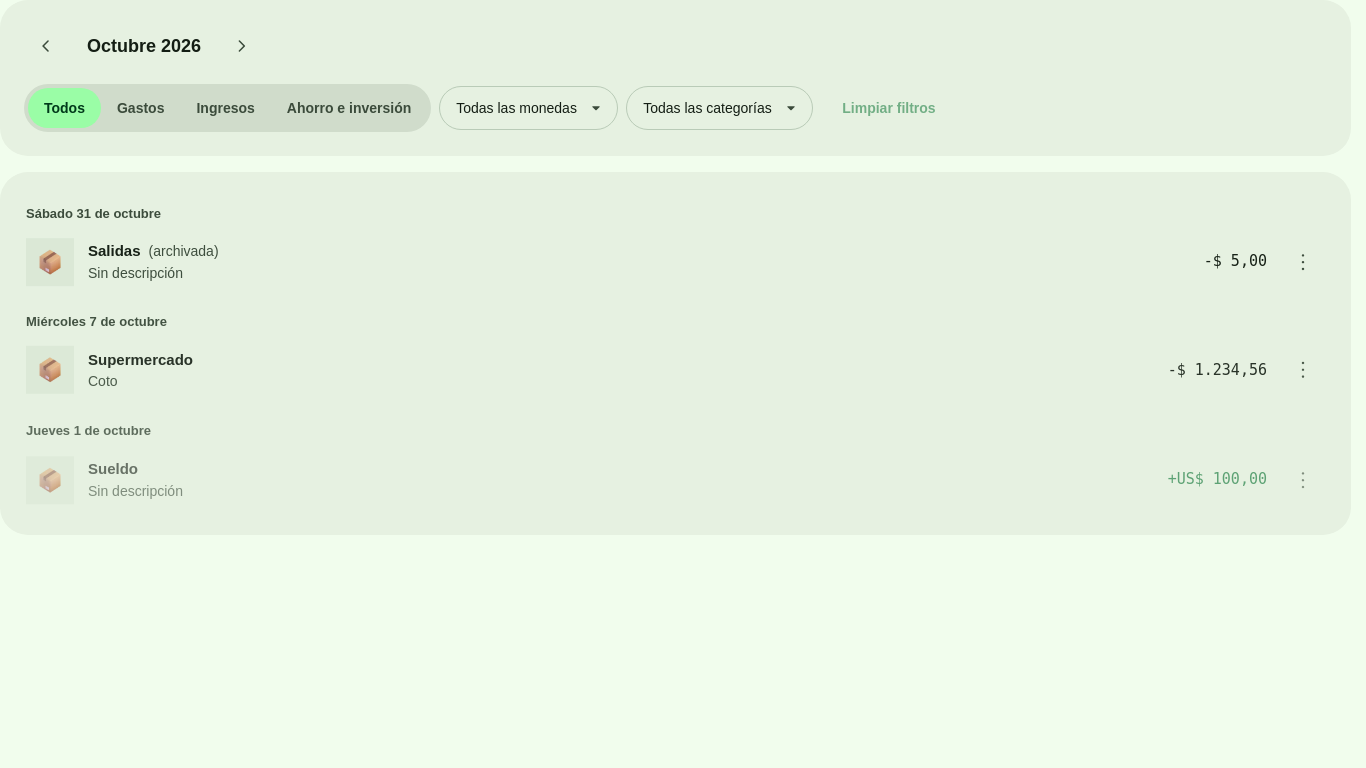
MovementsPage › edit › removes the movement from the month when its date moves to another month
Click the button named "Acciones del movimiento de Supermercado del 07/10/2026" at (1303, 370), box top-left (1281, 348), bottom-right (1325, 392)
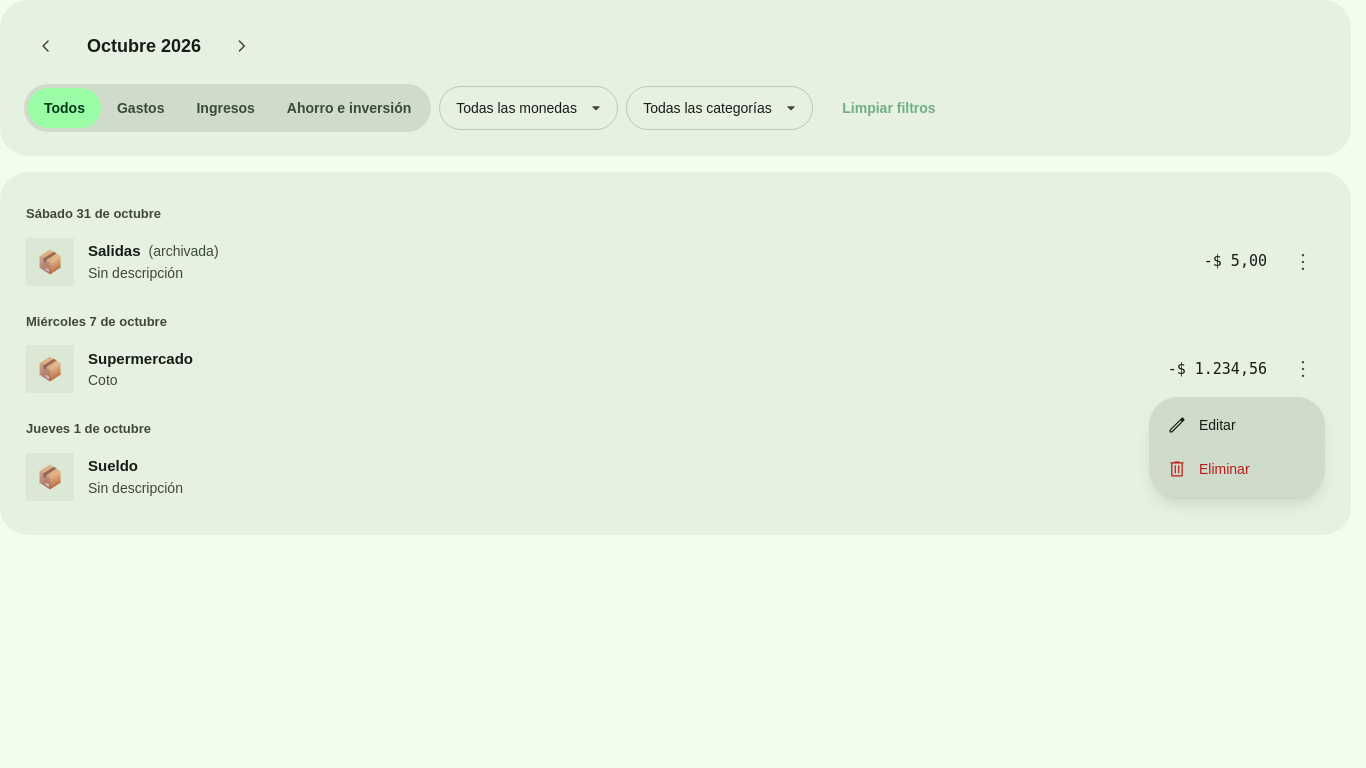
Click the menu item "Editar" at (1201, 425), box top-left (1167, 415), bottom-right (1236, 435)
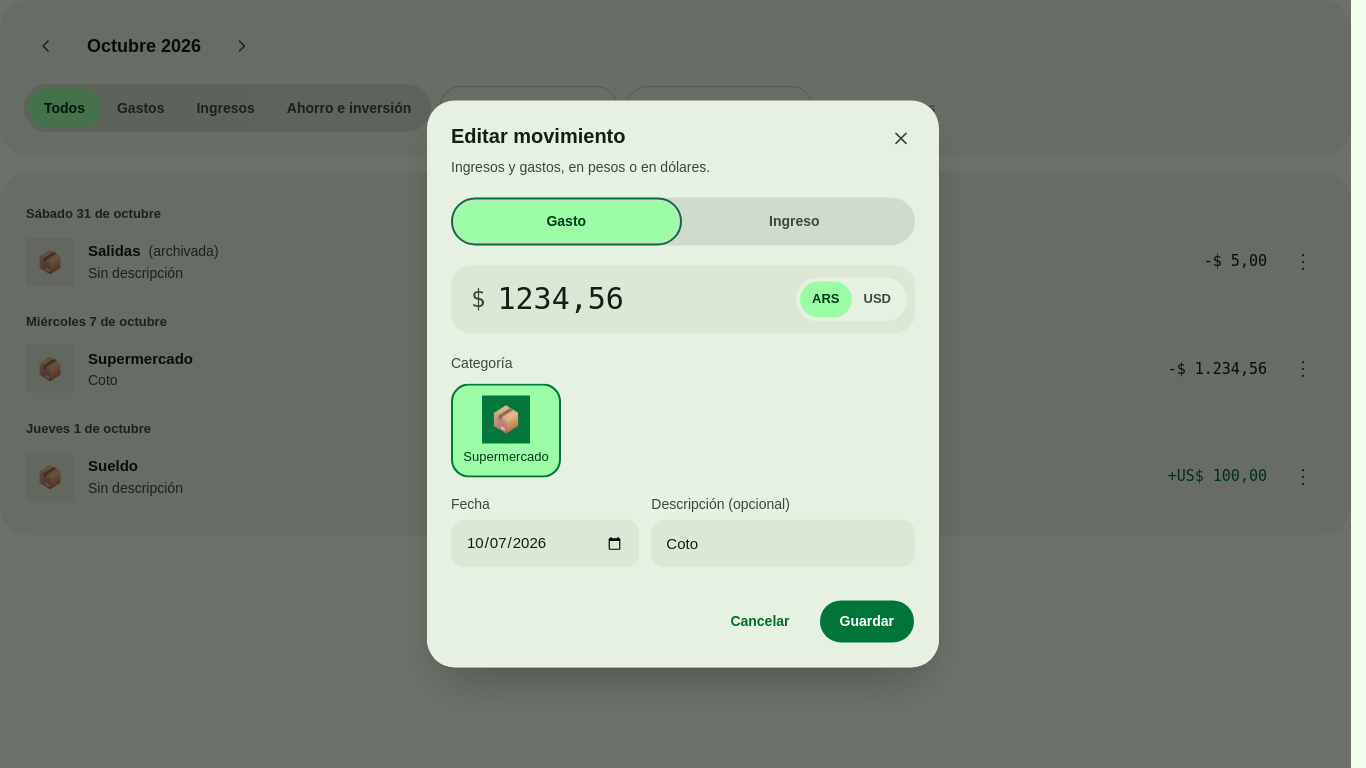
Check: the field named "Monto" is shown, box top-left (498, 273), bottom-right (784, 325)
Type "2026-11-02" into the date field labelled "Fecha" at (545, 544), box top-left (451, 520), bottom-right (639, 568)
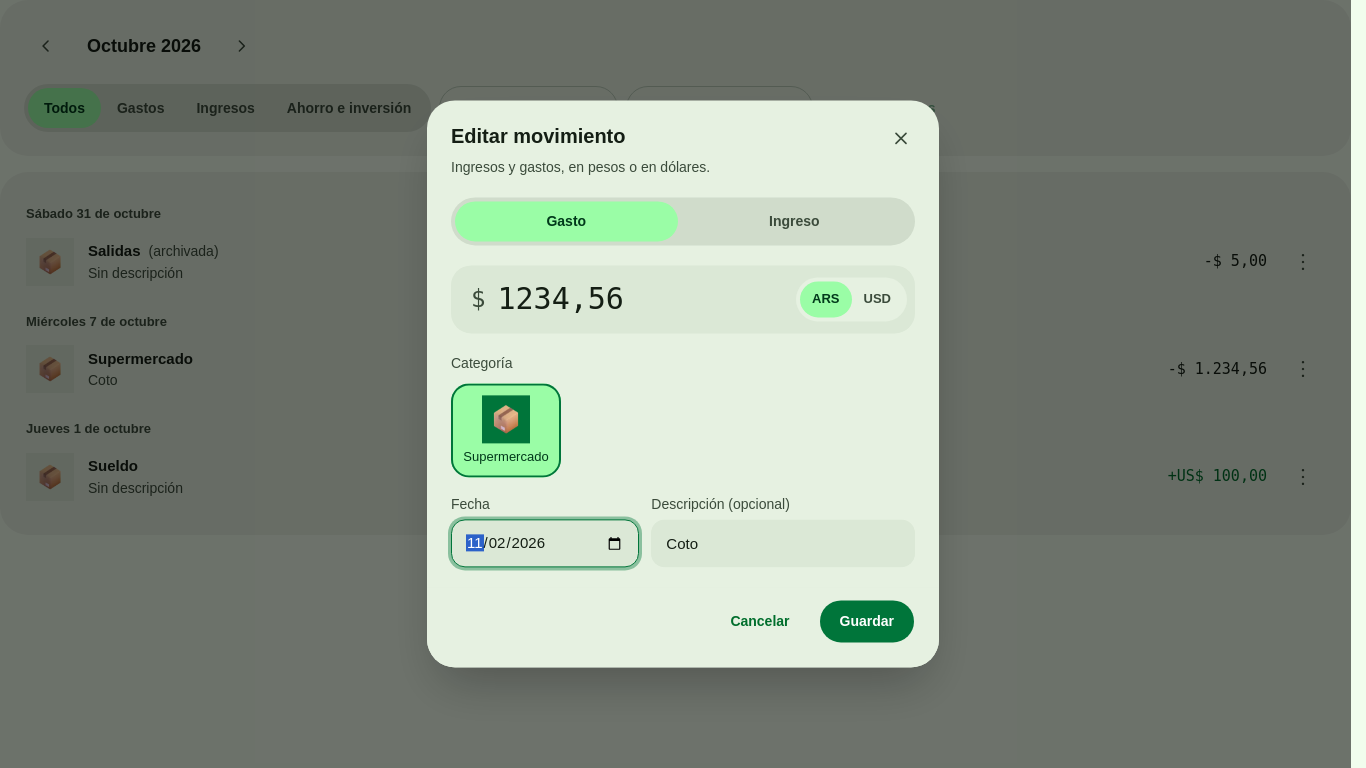
Click the button "Guardar" at (867, 622), box top-left (818, 600), bottom-right (915, 644)
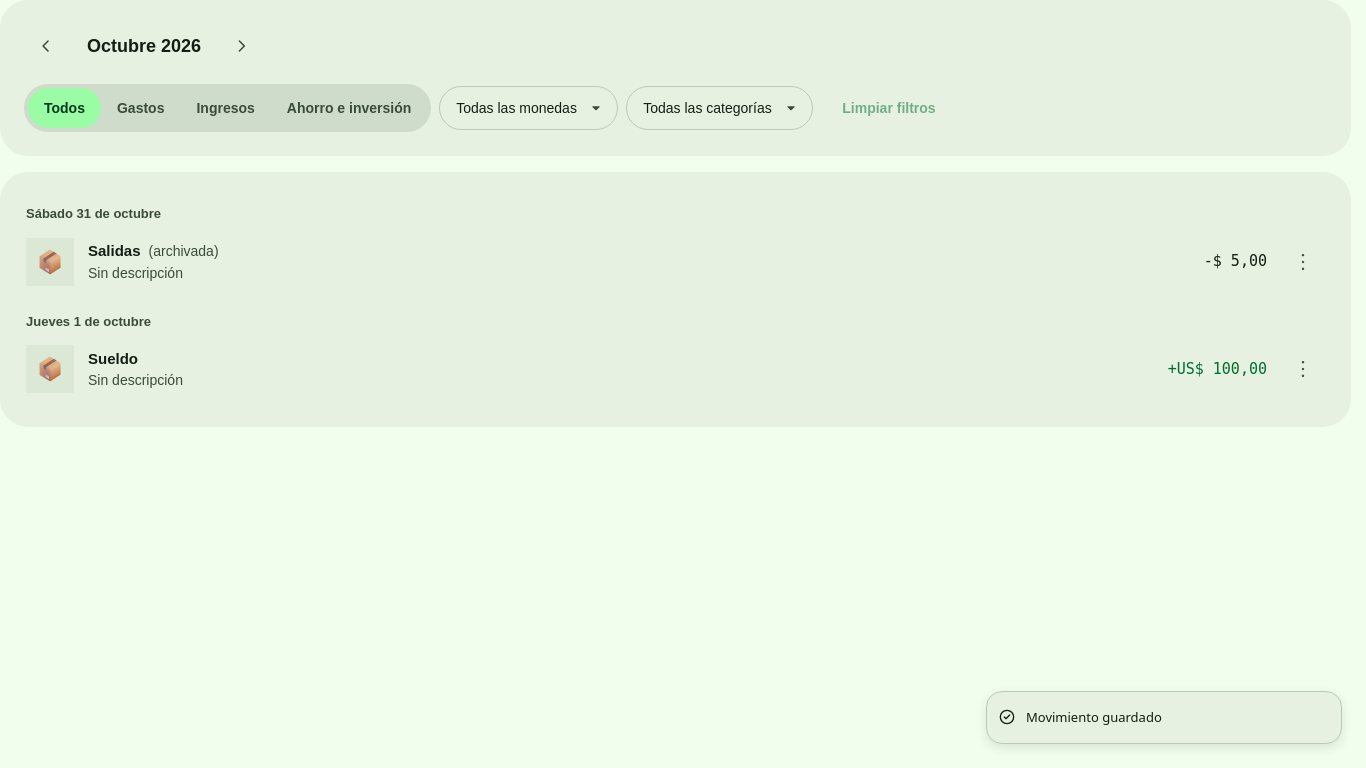
Check: the text "-$ 1.234,56" is gone
